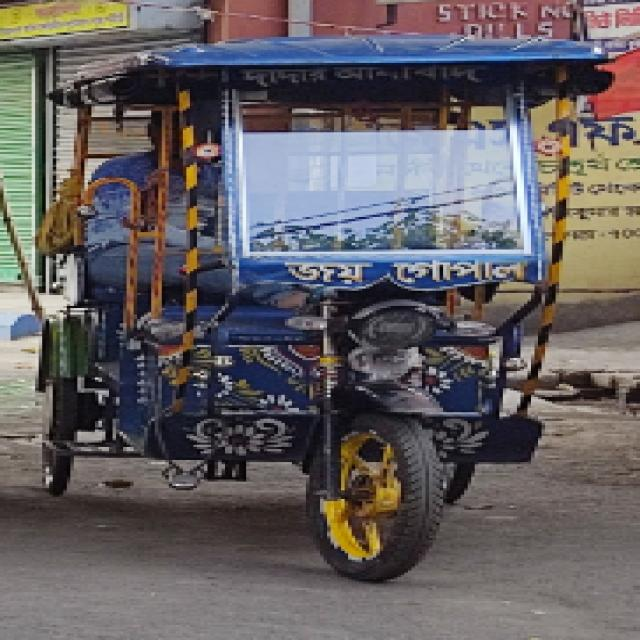rickshaw: (28, 30, 619, 586)
